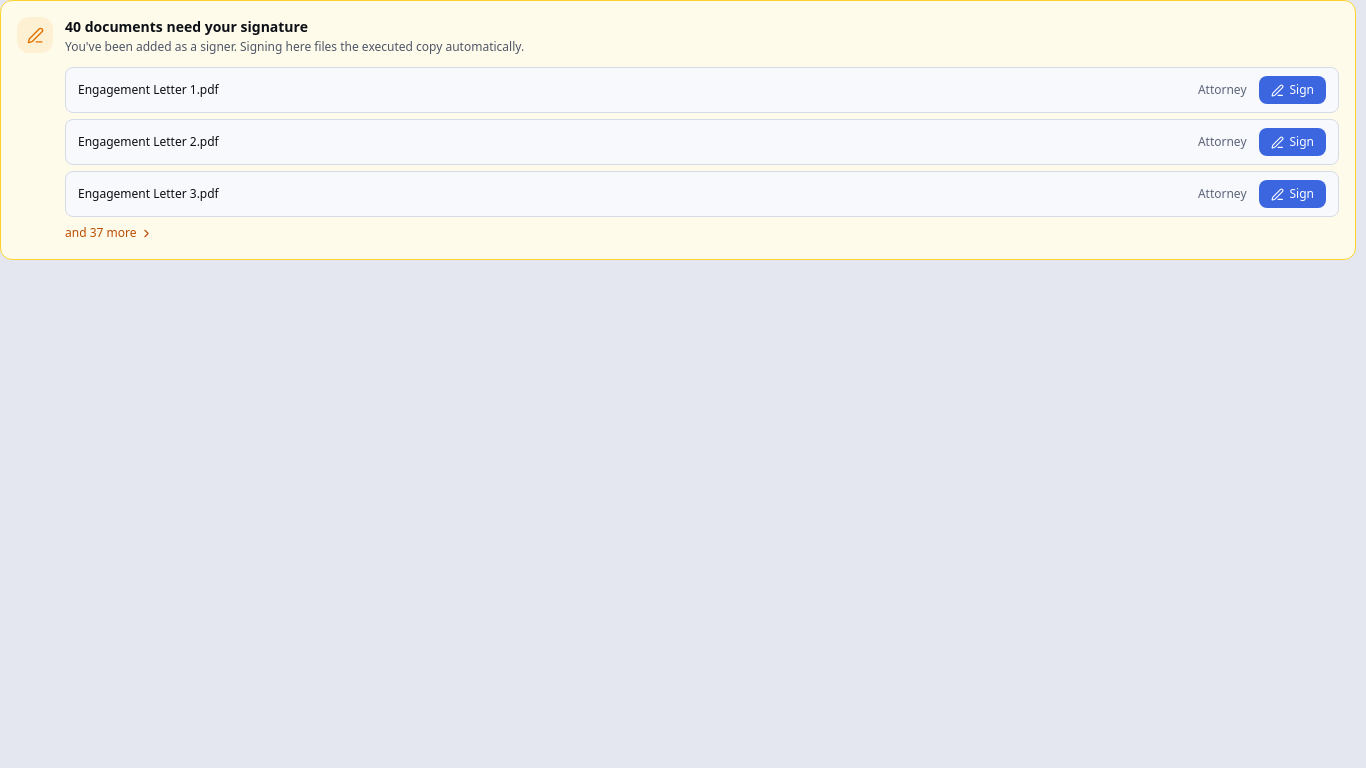
Test: NeedsSignatureBanner › keeps the banner a fixed size and the whole set reachable when there are a lot
Check: the heading "40 documents need your signature" is shown, box [65,17,308,36]
Check: the number of buttons "Sign" is 3, box [1258,76,1326,104]; [1258,128,1326,156]; [1258,180,1326,208]
Click the button "and 37 more". click: (109, 233)
box: [65,225,154,241]
(page scrolled)
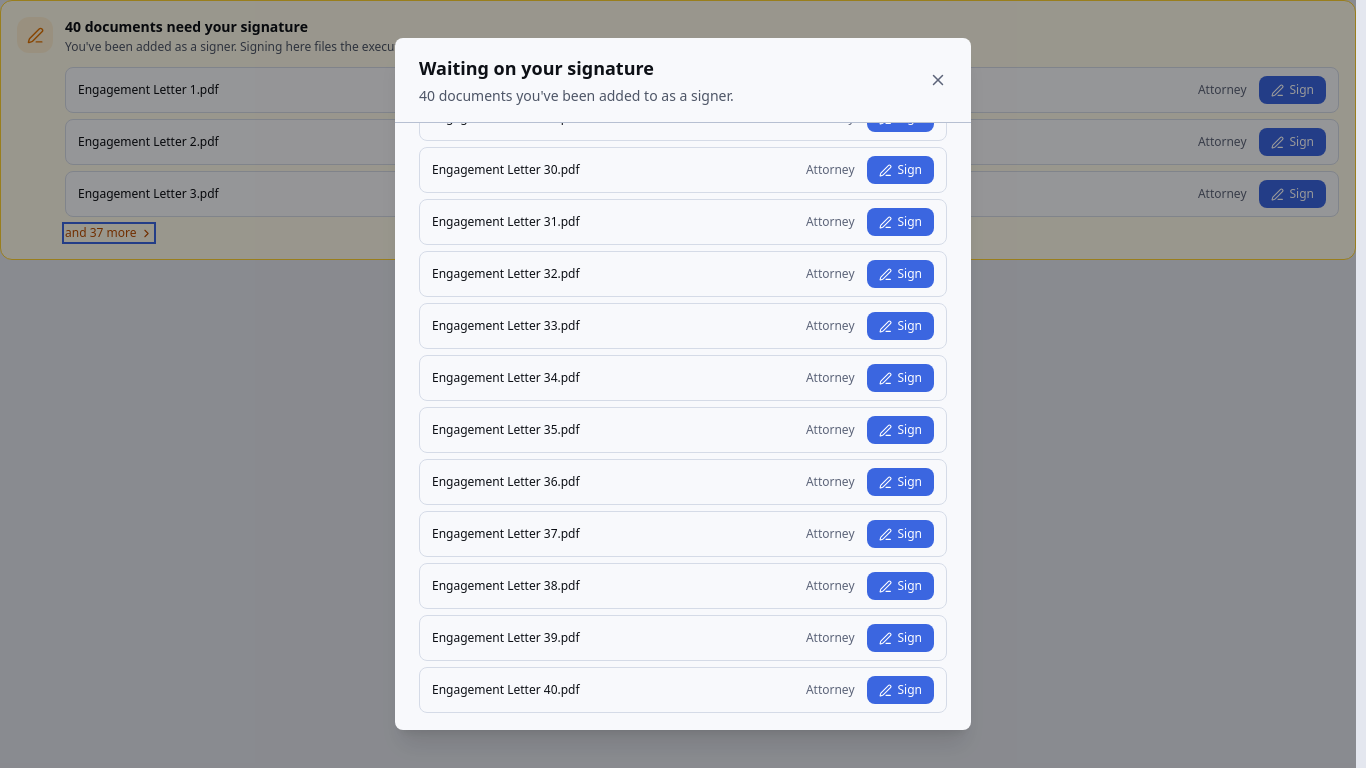
Check: the text "40 documents you've been added to as a signer." is shown, box [419,86,734,106]
Check: the text "Engagement Letter 40.pdf" is shown, box [432,681,580,698]
